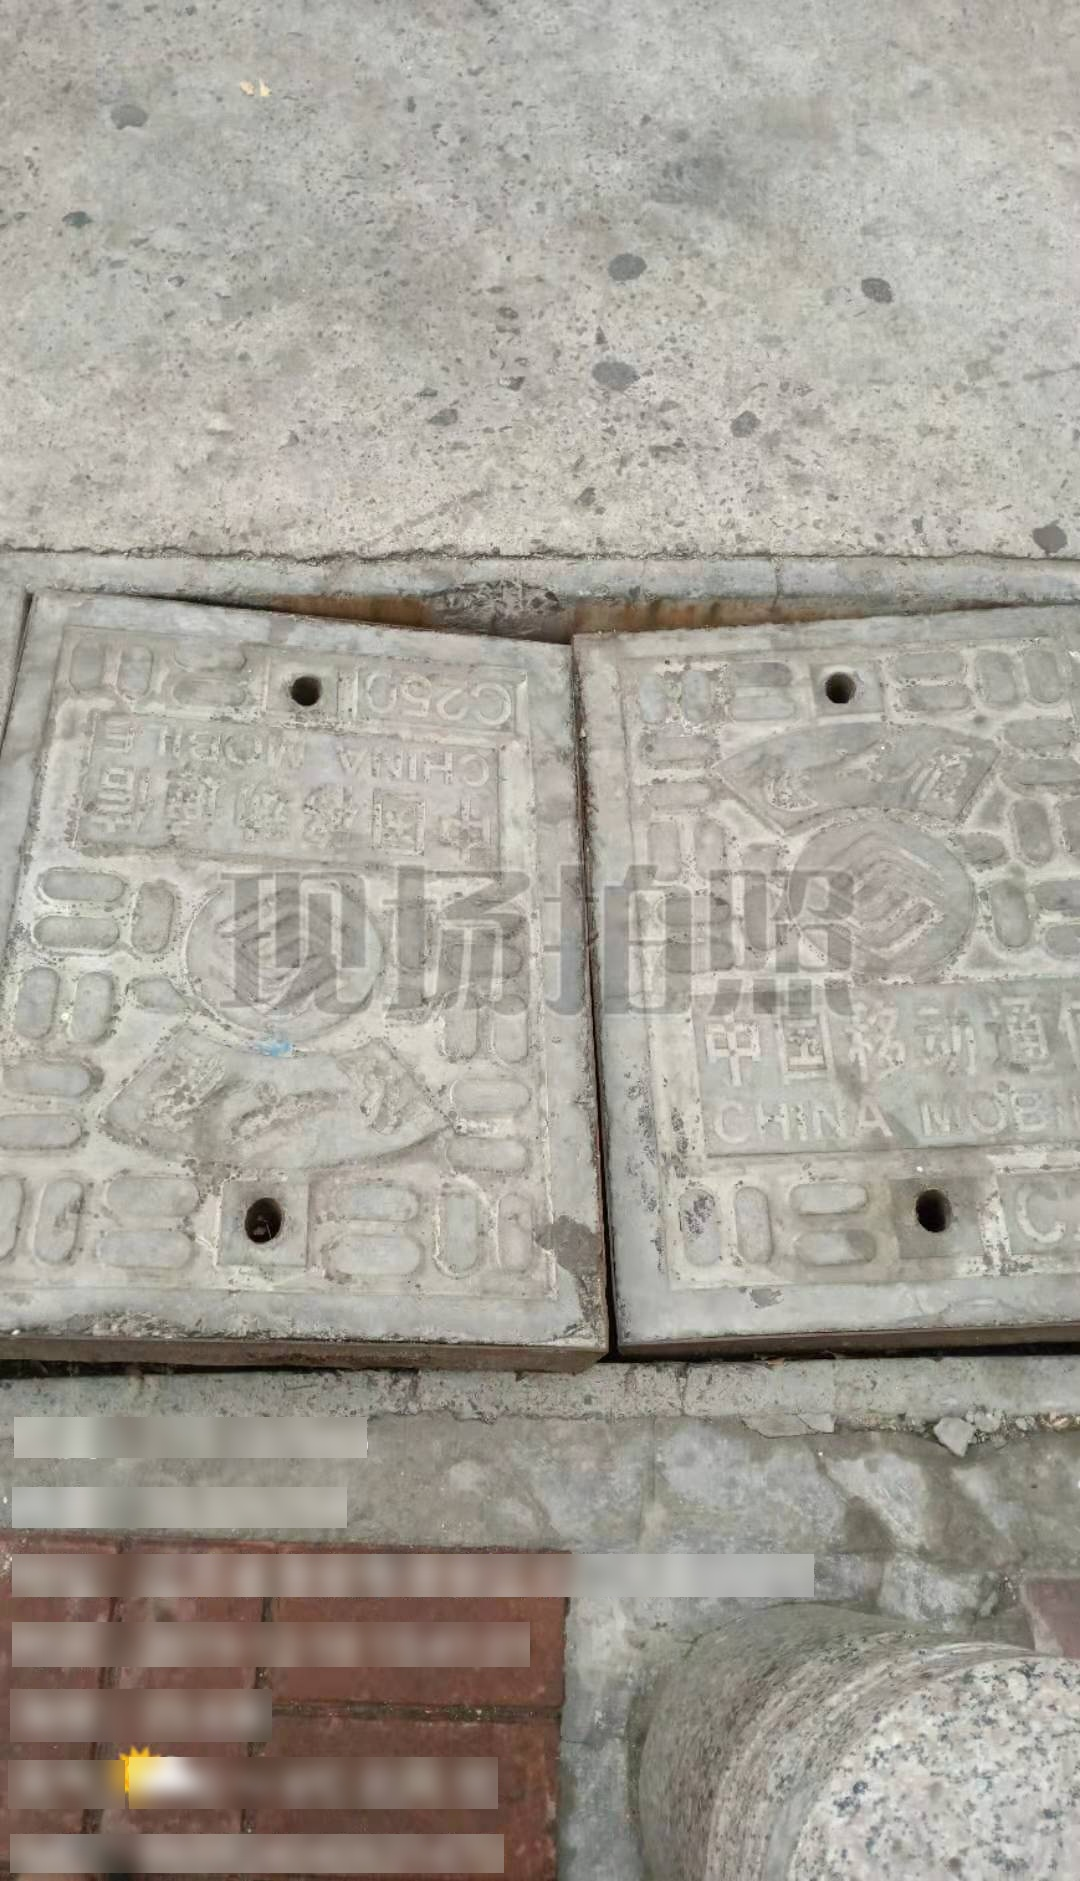uncovered: (3, 536, 1080, 1415)
